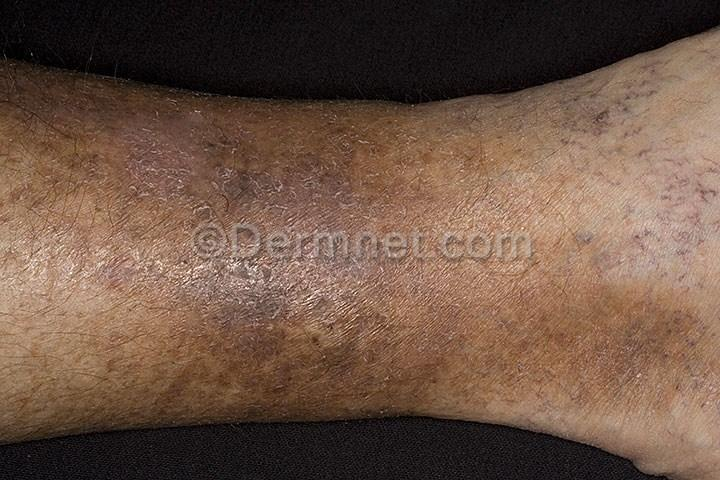Eczema: (140, 256, 454, 417), (79, 90, 432, 221), (467, 294, 720, 418)
